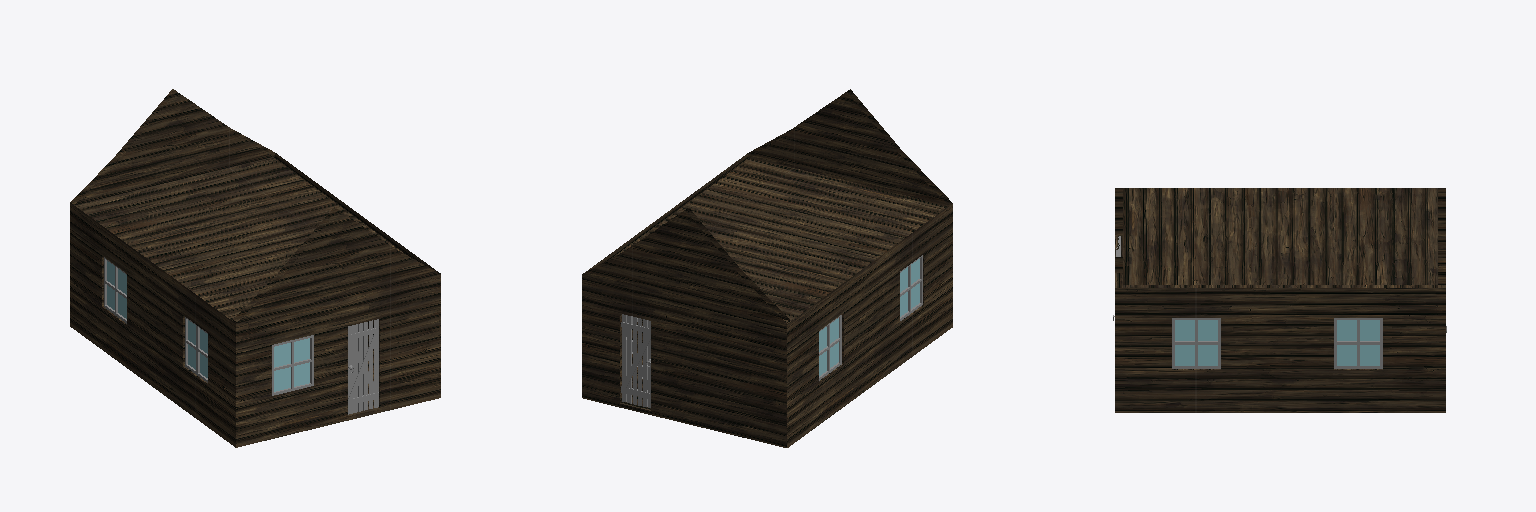
3 renders of one model, left to right at view 1: azimuth 30°, elevation 25°; view 2: azimuth 150°, elevation 25°; view 3: azimuth 270°, elevation 25°, orthographic.
Parts seen in each view (by area): view 1: MedievalHouse1.001_MedievalHouse1.002; view 2: MedievalHouse1.001_MedievalHouse1.002; view 3: MedievalHouse1.001_MedievalHouse1.002.
Part boxes in pixels (left/top/right/bottom): MedievalHouse1.001_MedievalHouse1.002: left=70, top=89, right=440, bottom=447; MedievalHouse1.001_MedievalHouse1.002: left=582, top=89, right=952, bottom=447; MedievalHouse1.001_MedievalHouse1.002: left=1113, top=188, right=1446, bottom=412.
Bounding box in the file's own units: 168 × 168 × 238.
Materials: 4 (1 with a texture image).